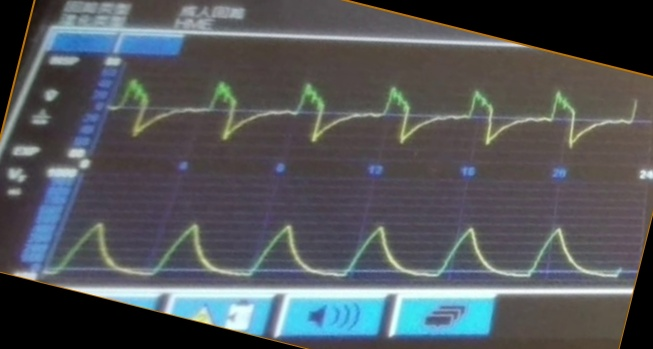Accumulation Flow: (124, 71, 610, 156)
Volume: (75, 197, 608, 283)
